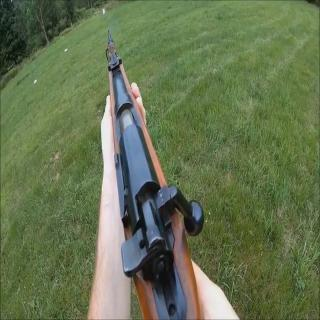gun: (85, 25, 184, 309)
